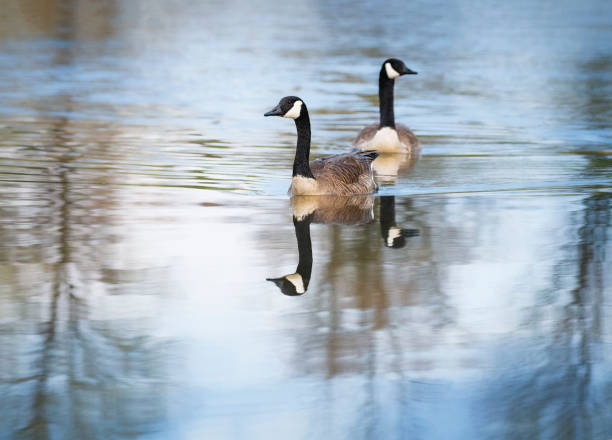goose: (262, 95, 378, 203), (346, 56, 422, 162)
